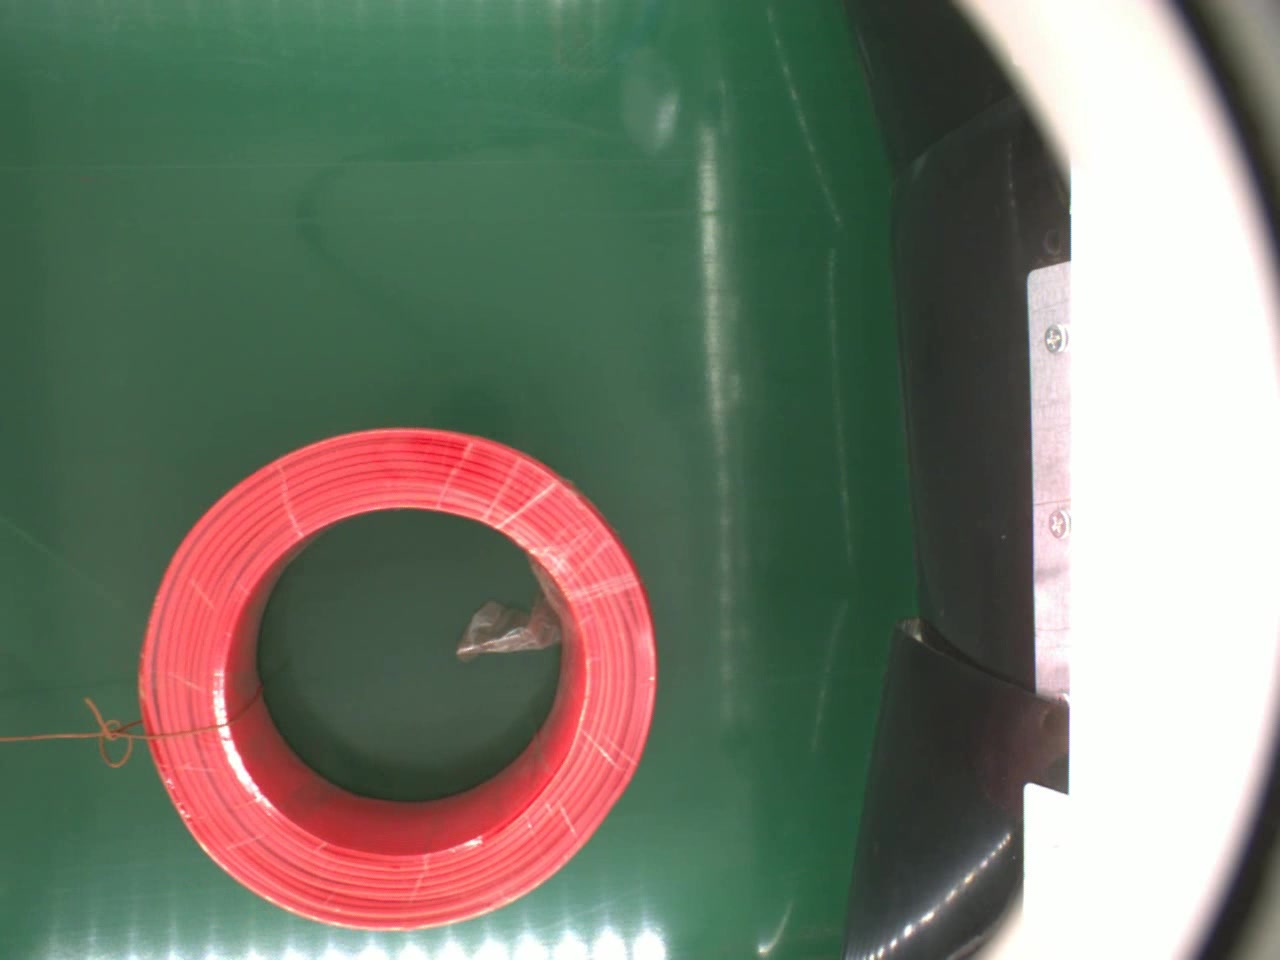red: (134, 422, 662, 932)
